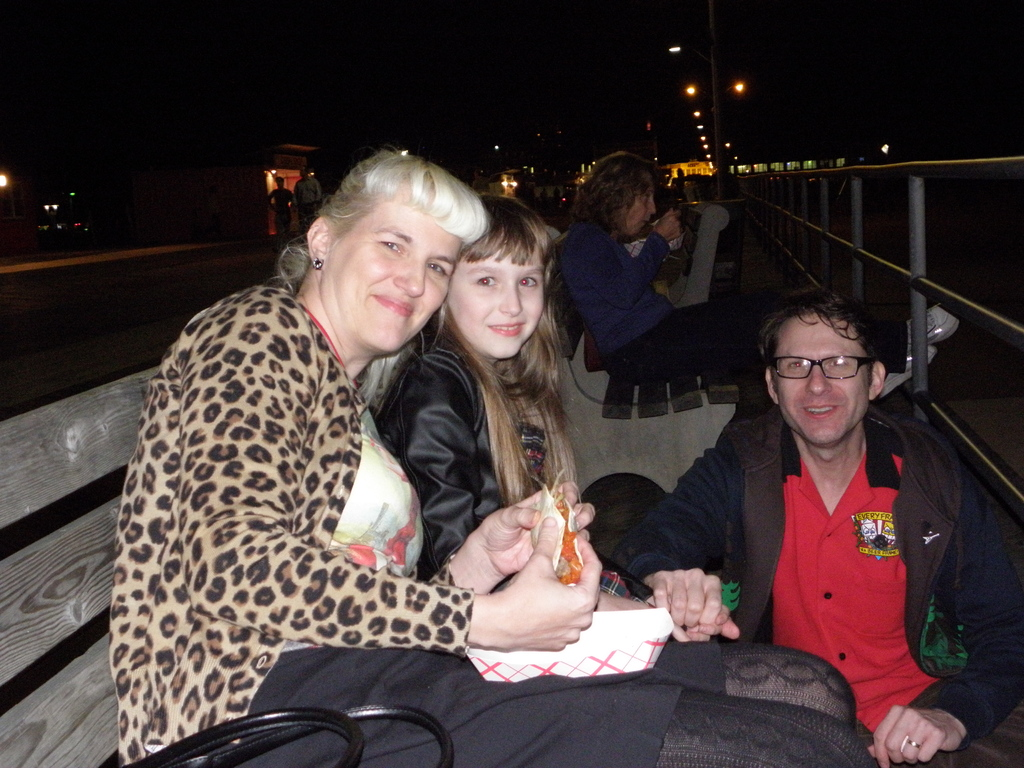Human-face: (323, 200, 459, 349), (446, 218, 550, 362), (772, 311, 868, 444), (625, 186, 657, 237)
